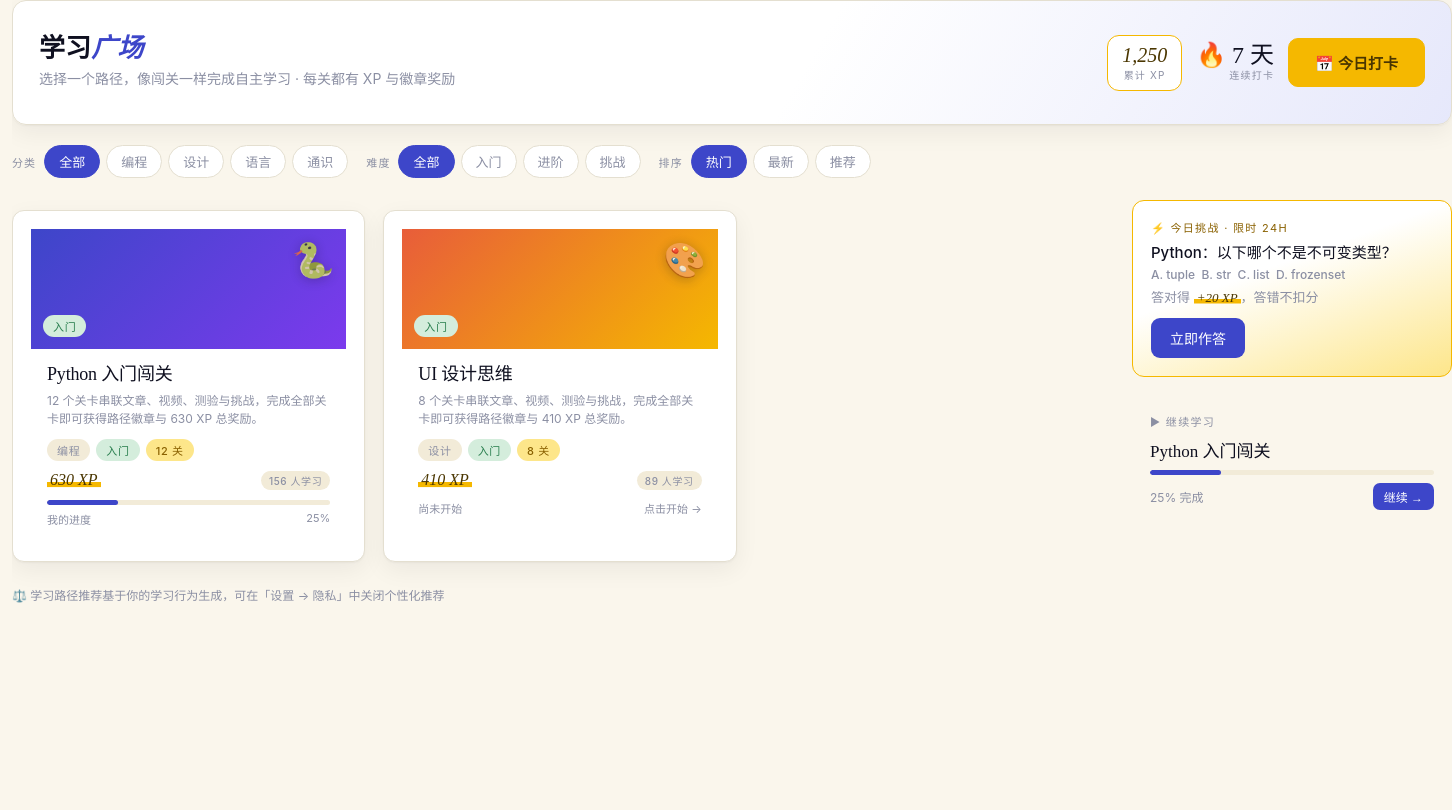
it: LearningPlaza › shows empty state when no paths match filter
// Click "语言" filter (no paths in this category)
What coordinates should you click on to do the following:
click the button "语言"
I would click on:
 (258, 162)
Its box is [230, 145, 286, 178].
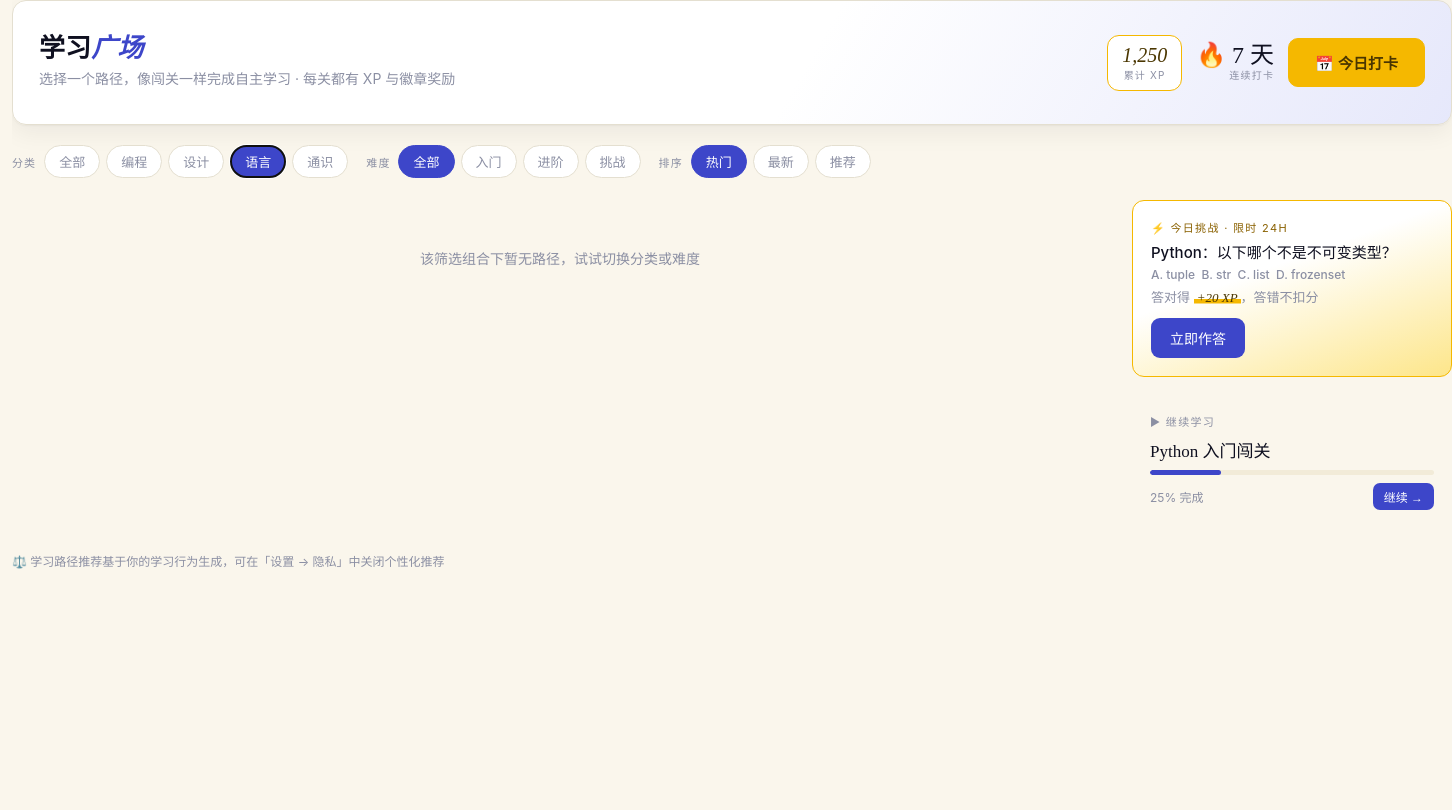
Result: the text "该筛选组合下暂无路径，试试切换分类或难度" is shown at [420, 250, 700, 267]
